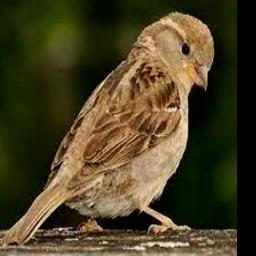Sparrow: (0, 12, 213, 247)
